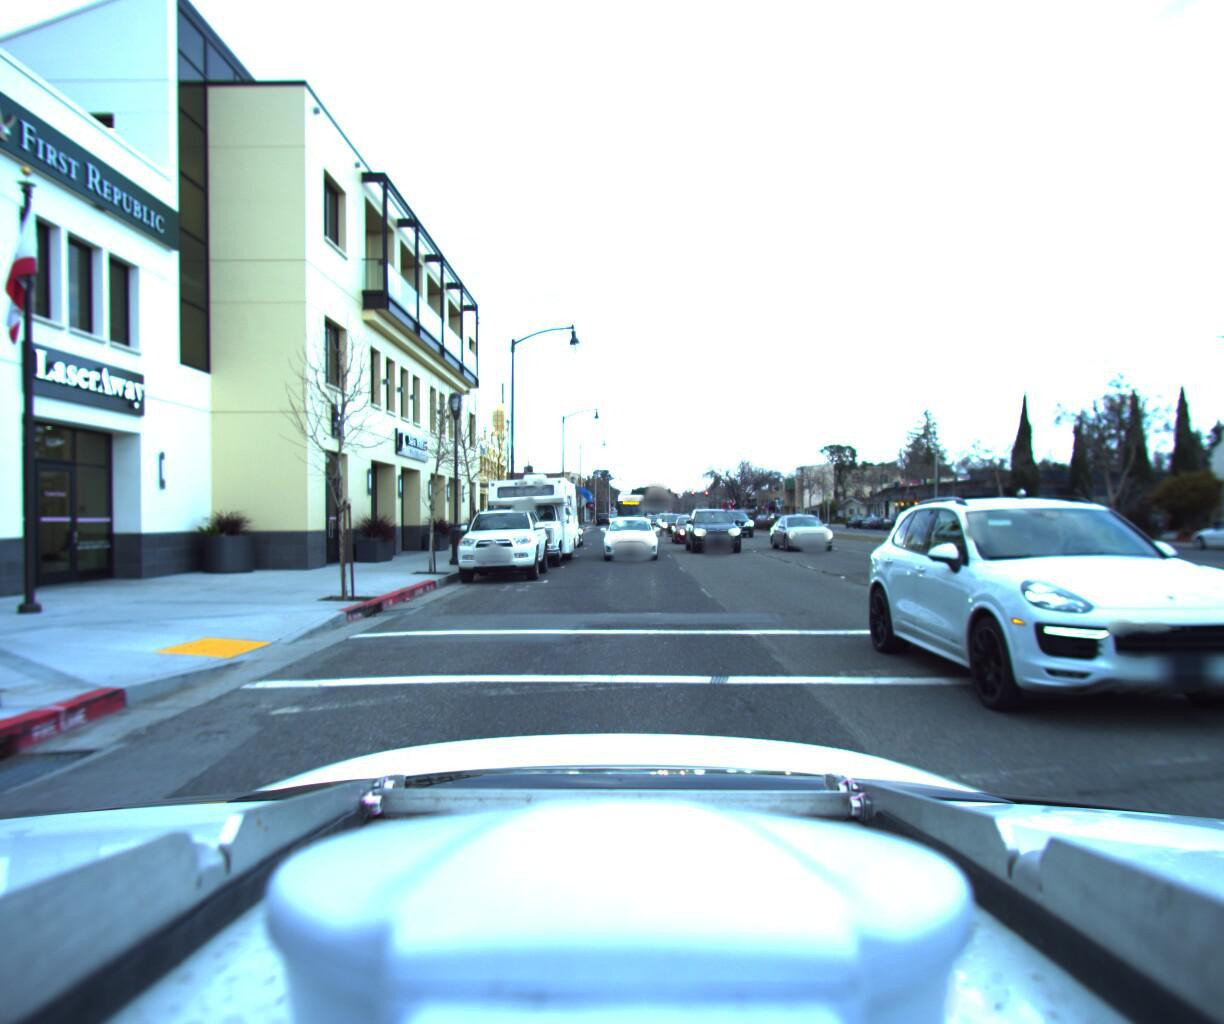bus: (611, 484, 645, 524)
car: (863, 480, 1224, 798), (448, 498, 549, 583), (596, 509, 658, 558), (769, 506, 842, 547), (681, 501, 744, 547), (1182, 510, 1224, 548), (1029, 501, 1085, 529), (661, 506, 709, 538), (715, 503, 756, 531), (656, 508, 689, 534)
other_vehicle: (474, 461, 582, 565)
